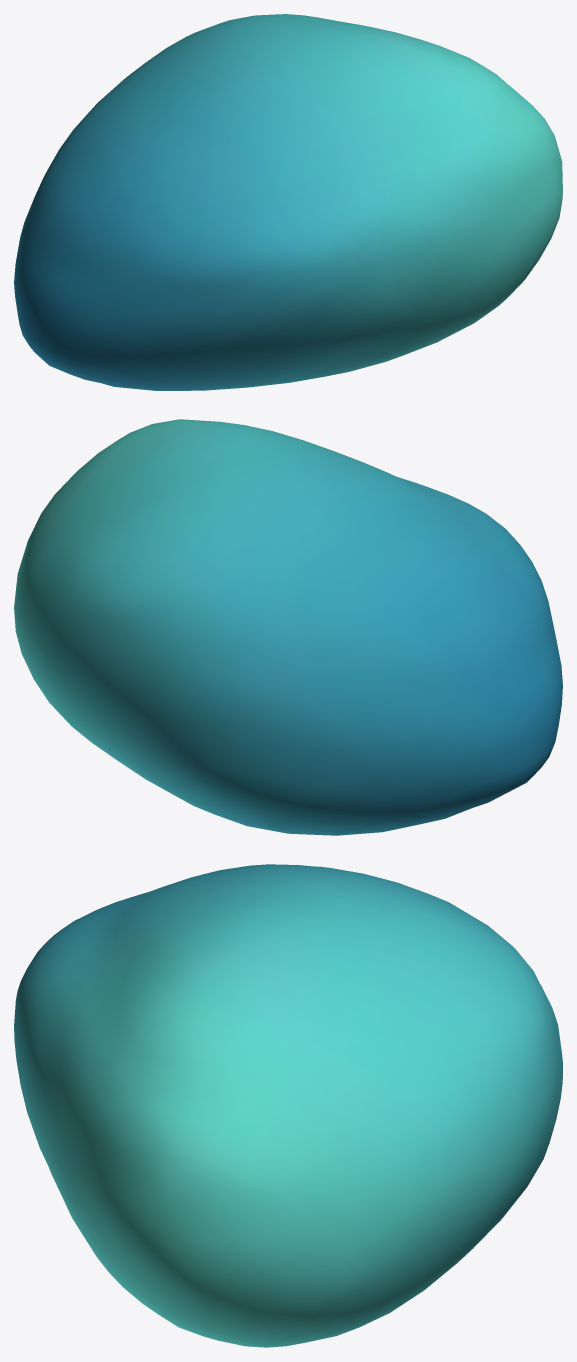
The model's file is SmallRockSmoothed.fbx.
The picture shows the model from 3 angles, top to bottom: view 1: azimuth 30°, elevation 25°; view 2: azimuth 150°, elevation 25°; view 3: azimuth 270°, elevation 25°; orthographic projection. The views are drawn at different scales.
Visible parts, largest first — view 1: SmallRock; view 2: SmallRock; view 3: SmallRock.
Part boxes in pixels (x1,y1,x2,y2): SmallRock: (14, 14, 562, 390); SmallRock: (14, 419, 562, 835); SmallRock: (14, 864, 562, 1347).
Bounding box in the file's own units: 263 × 162 × 200.
